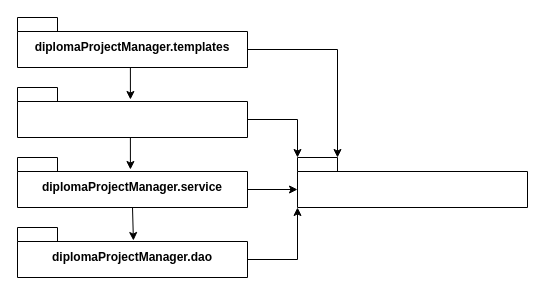
Some shapes in this 545 by 295 pixel diagram are drawn without their labels. Each missing label, with the box of its shape:
diplomaProjectManager.controller: (16, 86, 248, 138)
diplomaProjectManager.model: (296, 156, 528, 208)
